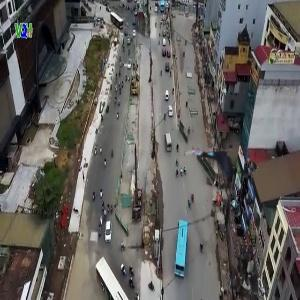drone: (186, 135, 248, 197)
